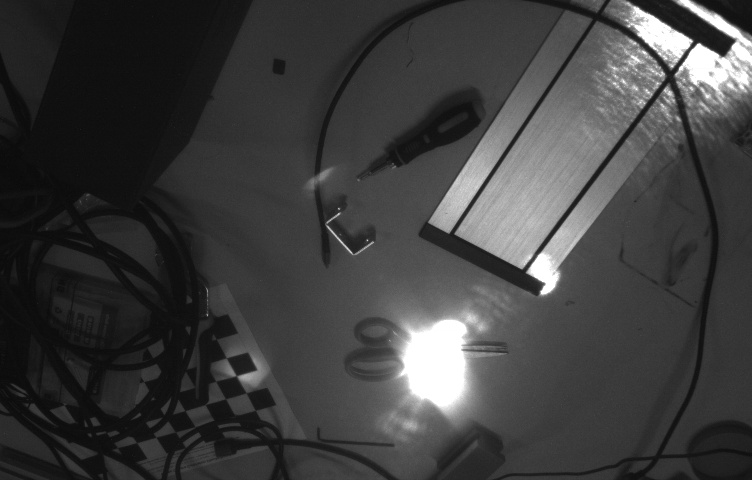Object scissors - Material plastic - Pdfname tYexGlkiIXWc: (406, 331, 476, 386)
